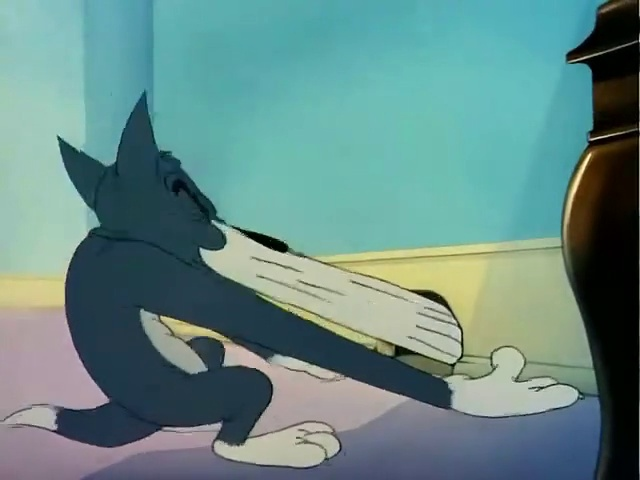tom: (5, 85, 547, 441)
